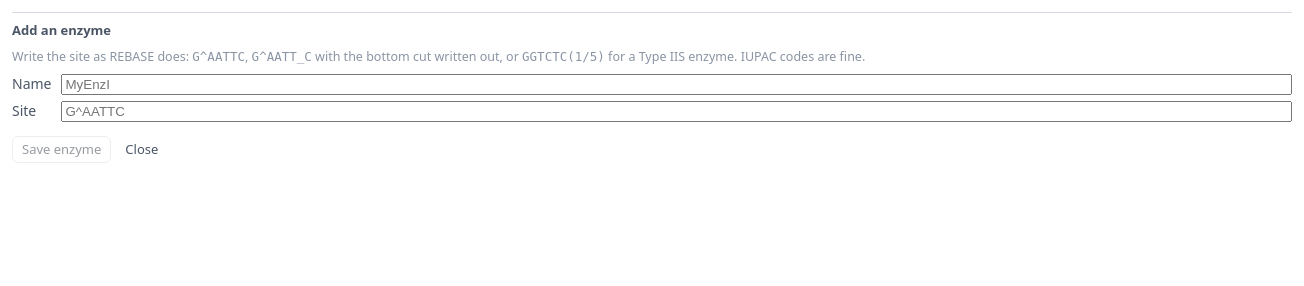
Test: CustomEnzymeForm (#217) › previews the cuts and says whether the site is palindromic
In the field named "Enzyme name": (677, 84) [62,74,1292,95], type "MyEco"
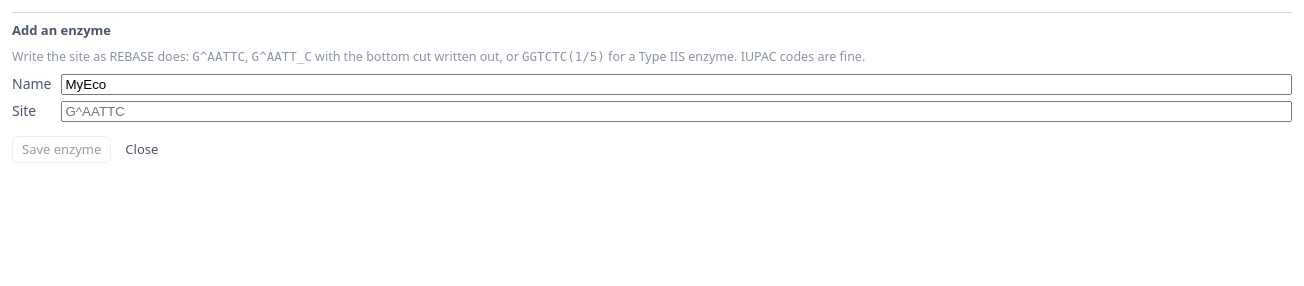
In the field named "Recognition site in REBASE notation": (677, 112) [62,101,1292,122], type "G^AATT_C"
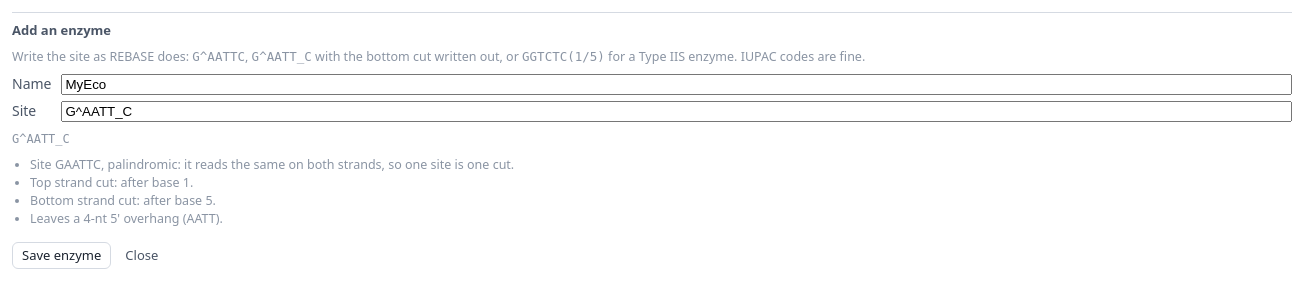
Expected: the element with test id "custom-enzyme-preview" shows "G^AATT_C", [12,132,70,146]
Expected: the element with test id "custom-enzyme-preview" shows "palindromic", [30,156,514,173]
Expected: the element with test id "custom-enzyme-preview" shows "Top strand cut: after base 1", [30,174,193,191]
